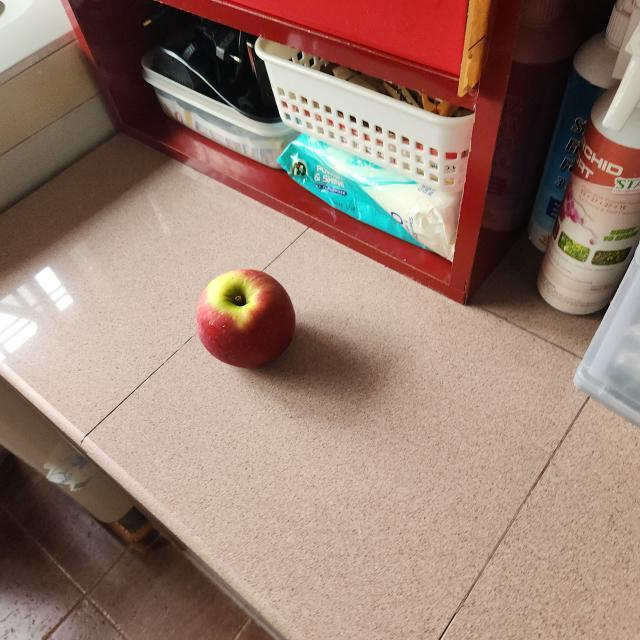apple: (190, 263, 300, 377)
